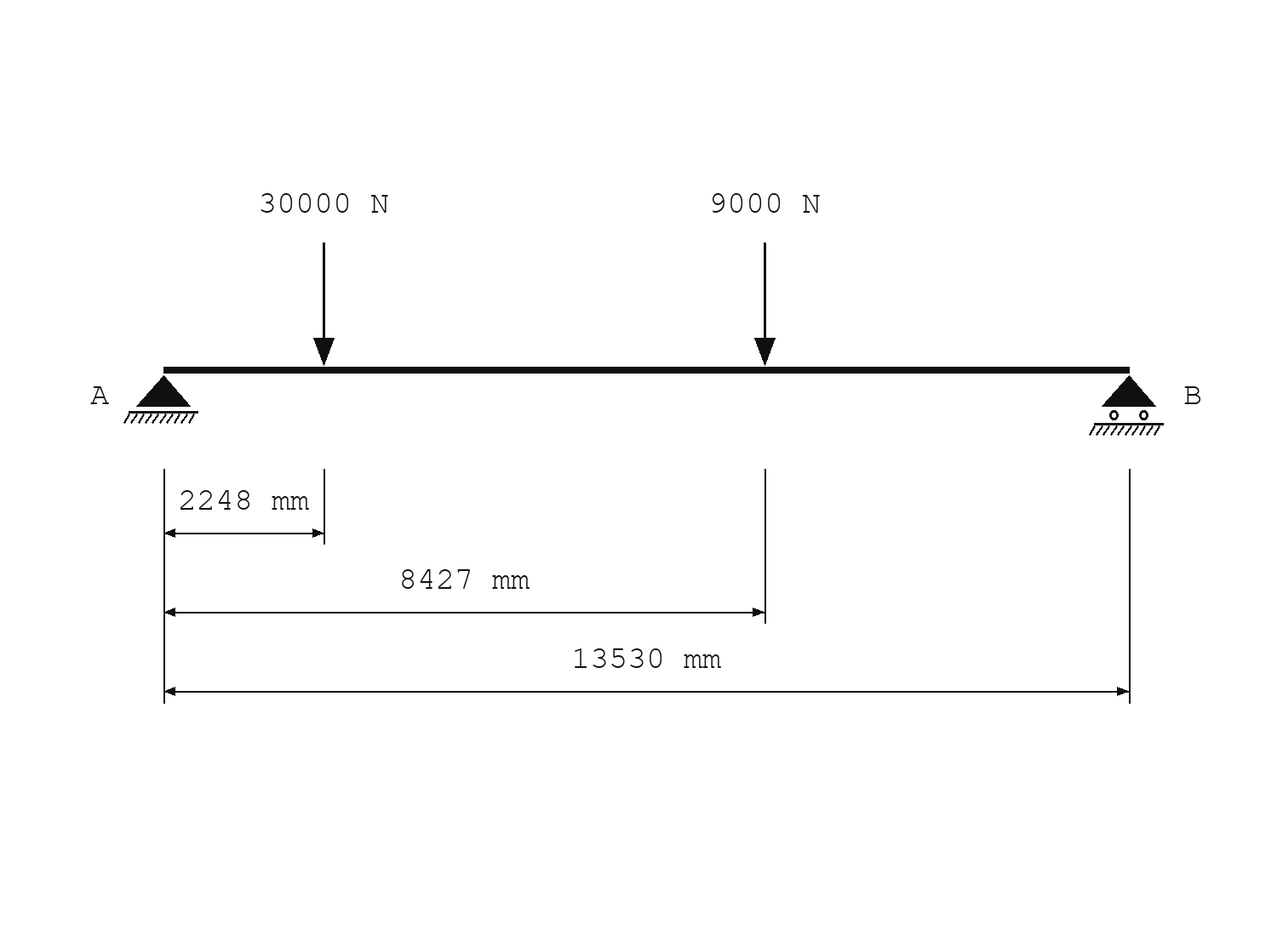pin_support: (123, 375, 198, 424)
point_load: (313, 243, 335, 366), (754, 243, 776, 366)
roller_support: (1089, 375, 1164, 436)
